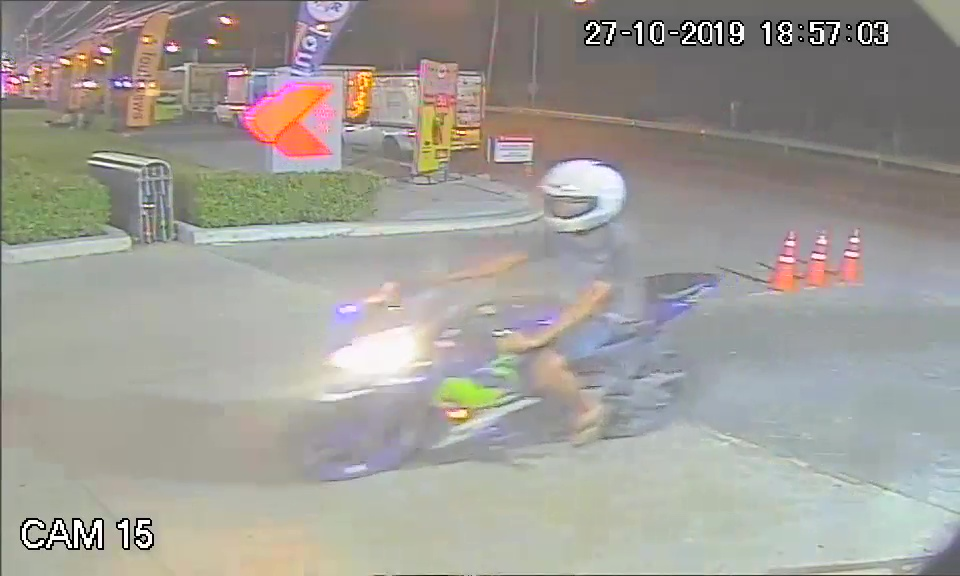motorcycle: (291, 263, 723, 483)
